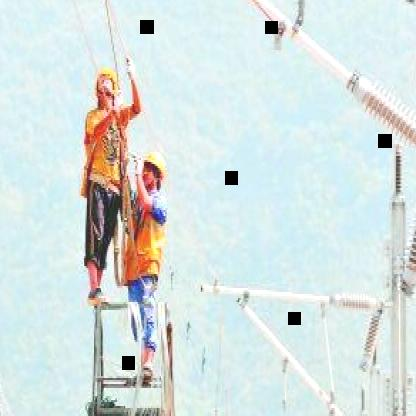helmet: (140, 146, 166, 200), (92, 60, 116, 110)
